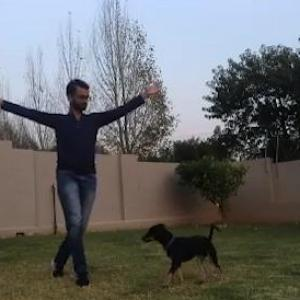takeoff: (1, 62, 171, 292)
